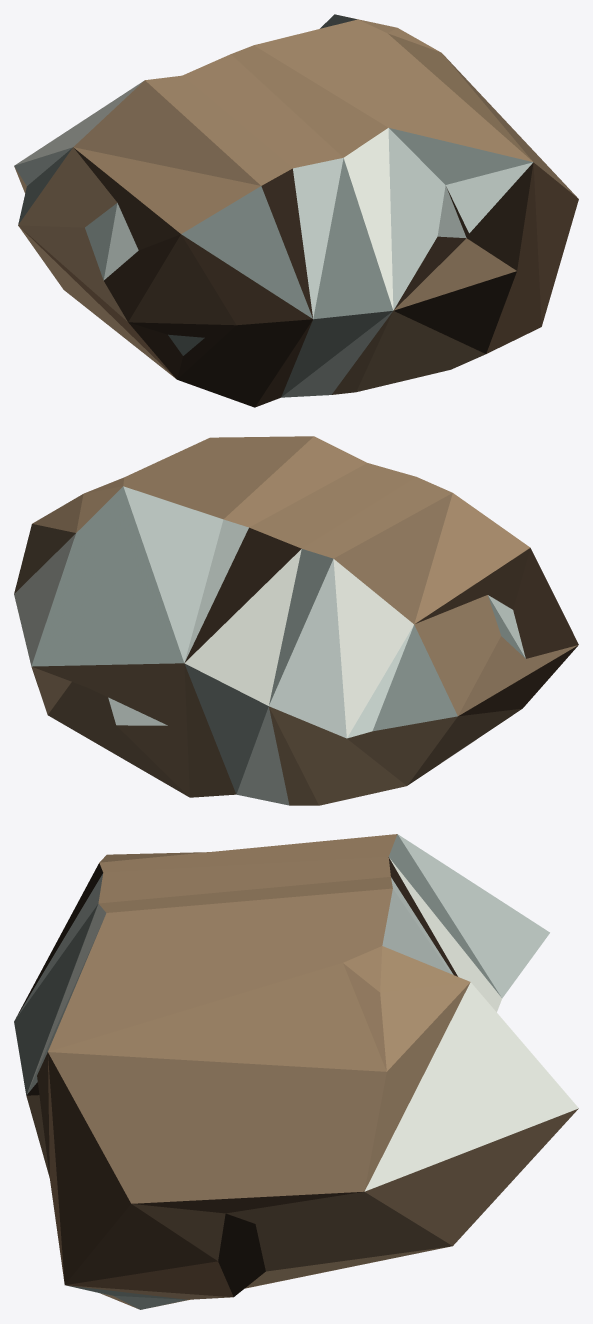
The model's file is TinOreRock.glb.
3 views of the same model, one above another, from view 1: azimuth 30°, elevation 25°; view 2: azimuth 150°, elevation 25°; view 3: azimuth 270°, elevation 25° (orthographic). The views are drawn at different scales.
Visible parts, largest first — view 1: TinOreRock_ExportDarkBrown; view 2: TinOreRock_ExportDarkBrown; view 3: TinOreRock_ExportDarkBrown.
Part boxes in pixels (x1,y1,x2,y2): TinOreRock_ExportDarkBrown: (14,14,578,407); TinOreRock_ExportDarkBrown: (14,436,578,805); TinOreRock_ExportDarkBrown: (14,834,578,1309).
Size of the model in its own units: 0.2701 by 0.1591 by 0.2236.
